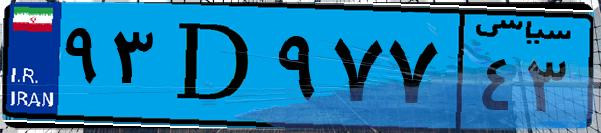3: (525, 38, 570, 115), (110, 28, 158, 98)
4: (475, 38, 525, 113)
7: (385, 28, 445, 110), (330, 28, 385, 110)
9: (270, 28, 330, 110), (57, 26, 110, 100)
D: (158, 12, 270, 120)
